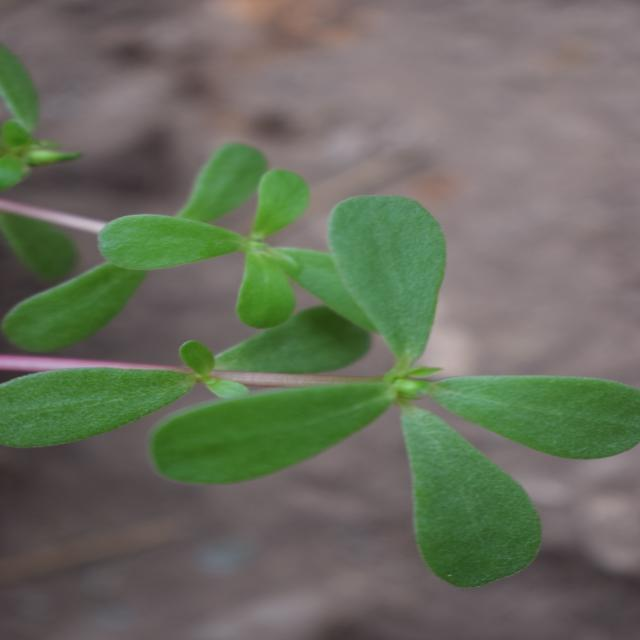purslane: (70, 27, 499, 627)
